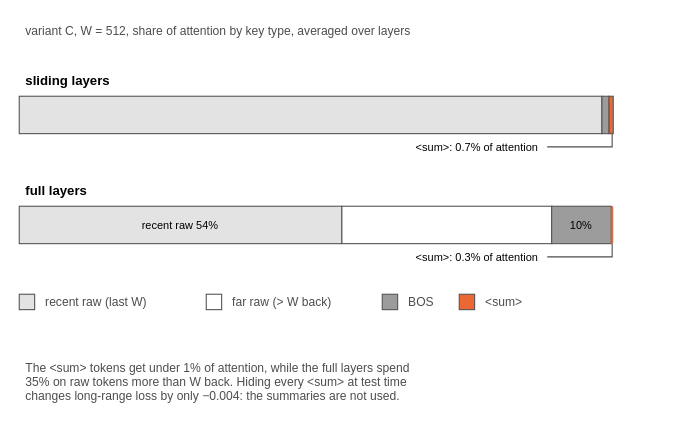
Some shapes in this 688 by 444 pixel diagram are drawn without their labels. Each missing label, with the box of its shape:
far raw 35%: (341, 205, 552, 244)
recent raw 98%: (18, 95, 602, 134)
